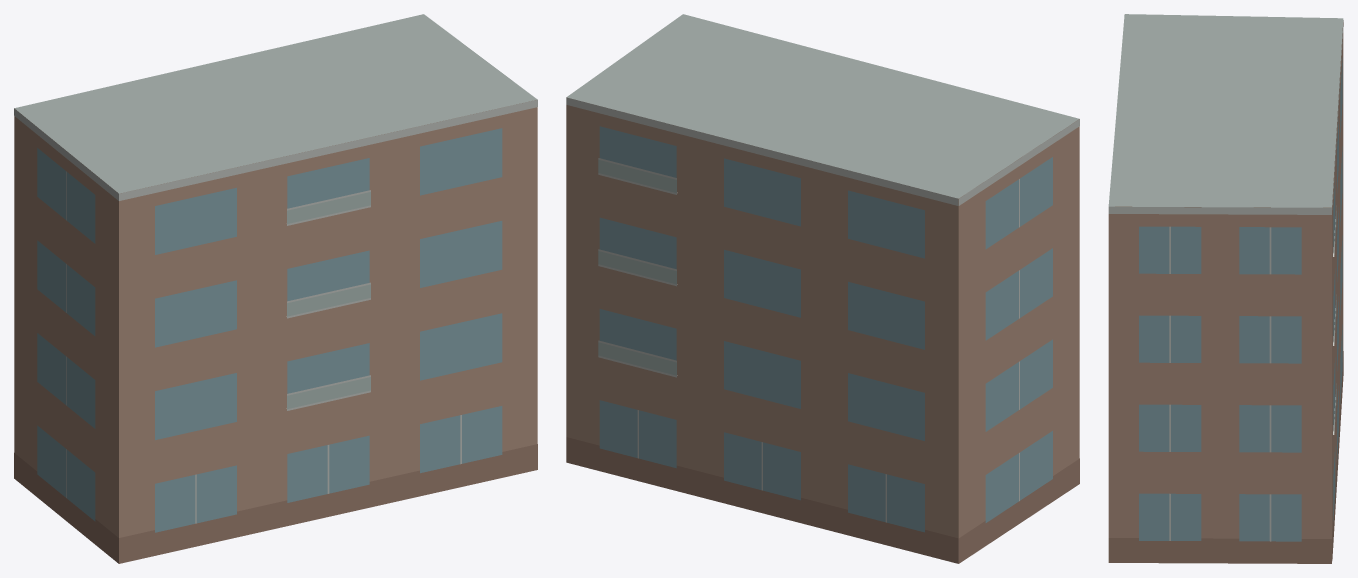
Rendered from survey-upis-32817907.glb.
3 views of the same model, side by side, from view 1: azimuth 30°, elevation 25°; view 2: azimuth 150°, elevation 25°; view 3: azimuth 270°, elevation 25° (orthographic). The views are drawn at different scales.
Visible parts, largest first — view 1: survey-upis-32817907.tmp; view 2: survey-upis-32817907.tmp; view 3: survey-upis-32817907.tmp.
Boxes of the visible parts, x1=… form: survey-upis-32817907.tmp: x1=14, y1=14, x2=537, y2=563; survey-upis-32817907.tmp: x1=566, y1=14, x2=1079, y2=563; survey-upis-32817907.tmp: x1=1108, y1=14, x2=1343, y2=563.
Size of the model in its own units: 14.01 by 12 by 7.18.
